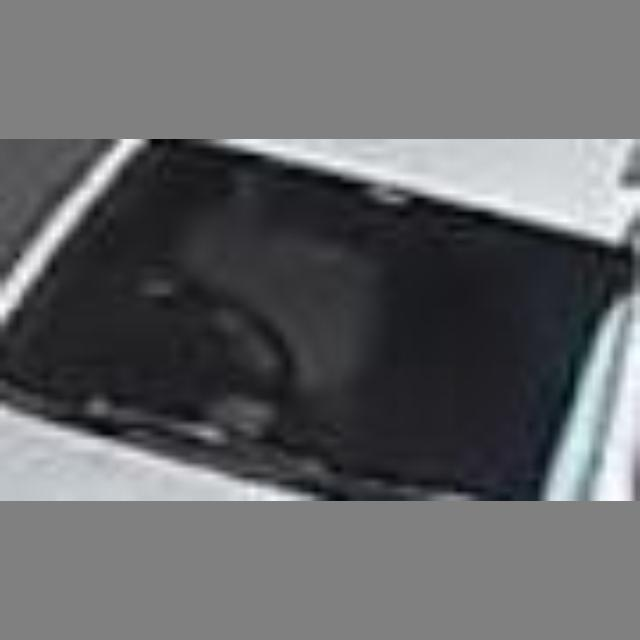tidak-pakai: (164, 189, 363, 388)
